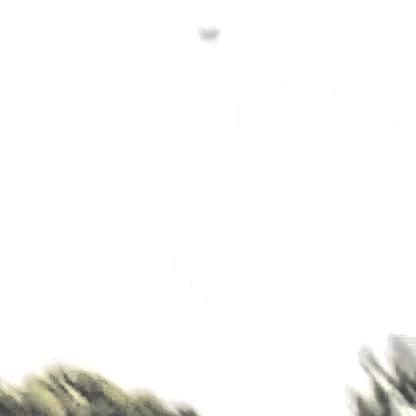golfball: (195, 25, 219, 41)
